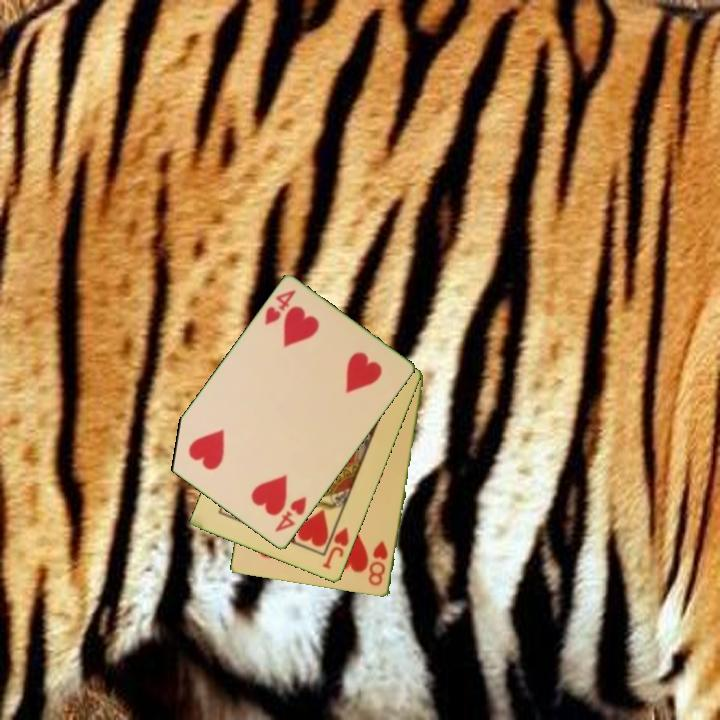4h: (271, 493, 310, 535), (261, 287, 299, 328)
8h: (365, 538, 391, 589)
Jh: (319, 517, 352, 572)
